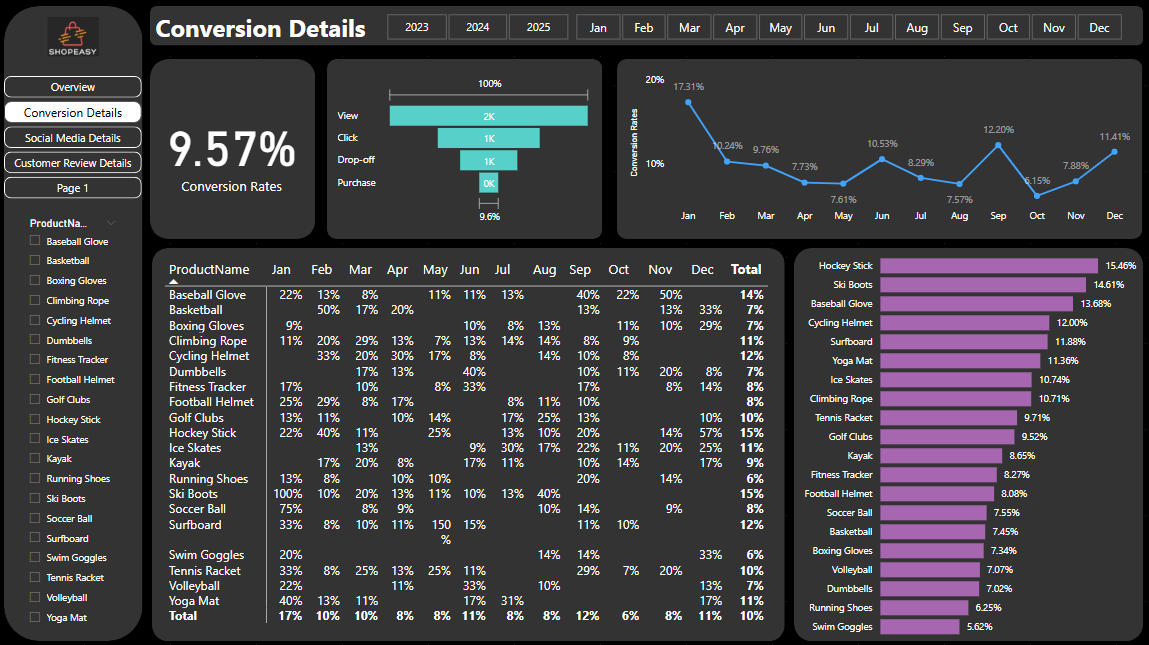

This screenshot's page, from the dashboard's own definition file:
{"tool":"powerbi","page":{"name":"Conversion Details","canvas":[1280,720],"ordinal":1},"visuals":[{"type":"shape","box":[688.3,67,584.2,200.2],"z":0},{"type":"shape","box":[6.3,8.2,154,705.5],"z":1000},{"type":"image","box":[49.8,8.2,67,67],"z":2000},{"type":"shape","box":[883.9,276.2,388.5,437.4],"z":3000},{"type":"shape","box":[171.2,276.2,703.7,437.4],"z":4000},{"type":"shape","box":[169.1,8.2,1103.5,43.9],"z":5000},{"type":"slicer","fields":{"Values":["Calendar.MonthNameShort"]},"box":[617.1,10.1,655.5,42.1],"z":6000},{"type":"slicer","fields":{"Values":["Calendar.Year"]},"box":[406.6,10,250.9,41.7],"z":7000},{"type":"shape","box":[169.4,67,183.8,200.2],"z":8000},{"type":"textbox","box":[169.4,8.2,252.7,46.2],"z":9000},{"type":"card","fields":{"Values":["Key Measures.Conversion Rates"]},"box":[171.5,114.5,176.6,110.5],"z":10000},{"type":"shape","box":[365.9,67,306.1,200.2],"z":11000},{"type":"lineChart","fields":{"Y":["Key Measures.Conversion Rates"],"Category":["Calendar.MonthNameShort"]},"box":[697.4,75.2,565.1,182.9],"z":12000},{"type":"funnel","fields":{"Y":["Key Measures.Number of Customer Journeys"],"Category":["fact_customer_journey.Action"]},"box":[372.2,79.7,293.4,173.9],"z":13000},{"type":"pivotTable","fields":{"Values":["Key Measures.Conversion Rates"],"Rows":["dim_products.ProductName"],"Columns":["Calendar.MonthNameShort"]},"box":[180.2,284.4,685.6,422],"z":14000},{"type":"clusteredBarChart","fields":{"Category":["dim_products.ProductName"],"Y":["Key Measures.Conversion Rates"]},"box":[883.9,267.2,388.5,452.8],"z":15000},{"type":"pageNavigator","box":[11.8,174.8,143.1,138.6],"z":16000},{"type":"image","box":[55.2,96,55.2,50.7],"z":17000},{"type":"slicer","fields":{"Values":["dim_products.ProductName"]},"box":[18.1,324.2,129.5,389.4],"z":18000}]}

Visuals, with their boxes on the page's 1280x720 design canvas (x1, y1, x2, y2). These are canvas units, not pixel positions in the 1149x645 screenshot, which may show the page scaled, cropped or inside an application window:
shape: {"x1": 688, "y1": 67, "x2": 1272, "y2": 267}
shape: {"x1": 6, "y1": 8, "x2": 160, "y2": 714}
image: {"x1": 50, "y1": 8, "x2": 117, "y2": 75}
shape: {"x1": 884, "y1": 276, "x2": 1272, "y2": 714}
shape: {"x1": 171, "y1": 276, "x2": 875, "y2": 714}
shape: {"x1": 169, "y1": 8, "x2": 1273, "y2": 52}
slicer - Calendar.MonthNameShort: {"x1": 617, "y1": 10, "x2": 1273, "y2": 52}
slicer - Calendar.Year: {"x1": 407, "y1": 10, "x2": 658, "y2": 52}
shape: {"x1": 169, "y1": 67, "x2": 353, "y2": 267}
textbox: {"x1": 169, "y1": 8, "x2": 422, "y2": 54}
card - Key Measures.Conversion Rates: {"x1": 172, "y1": 114, "x2": 348, "y2": 225}
shape: {"x1": 366, "y1": 67, "x2": 672, "y2": 267}
lineChart - Key Measures.Conversion Rates x Calendar.MonthNameShort: {"x1": 697, "y1": 75, "x2": 1262, "y2": 258}
funnel - Key Measures.Number of Customer Journeys x fact_customer_journey.Action: {"x1": 372, "y1": 80, "x2": 666, "y2": 254}
pivotTable - Key Measures.Conversion Rates x dim_products.ProductName: {"x1": 180, "y1": 284, "x2": 866, "y2": 706}
clusteredBarChart - dim_products.ProductName x Key Measures.Conversion Rates: {"x1": 884, "y1": 267, "x2": 1272, "y2": 720}
pageNavigator: {"x1": 12, "y1": 175, "x2": 155, "y2": 313}
image: {"x1": 55, "y1": 96, "x2": 110, "y2": 147}
slicer - dim_products.ProductName: {"x1": 18, "y1": 324, "x2": 148, "y2": 714}
